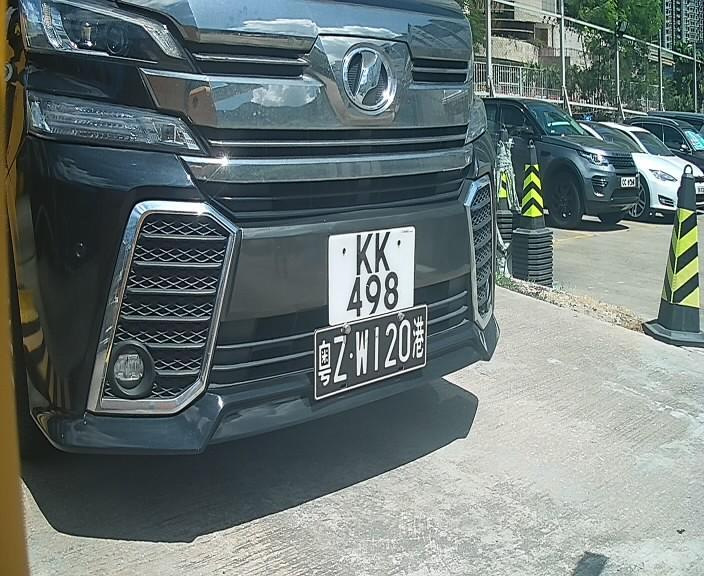privatecar: (19, 1, 525, 481)
